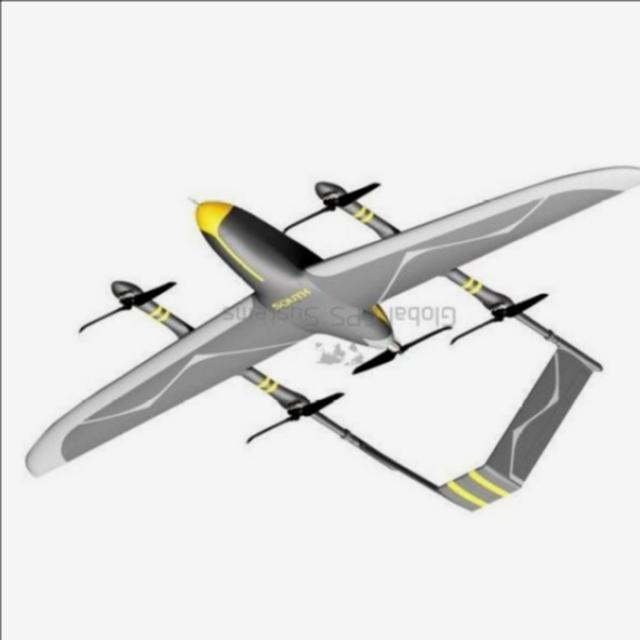plane: (21, 164, 640, 514)
